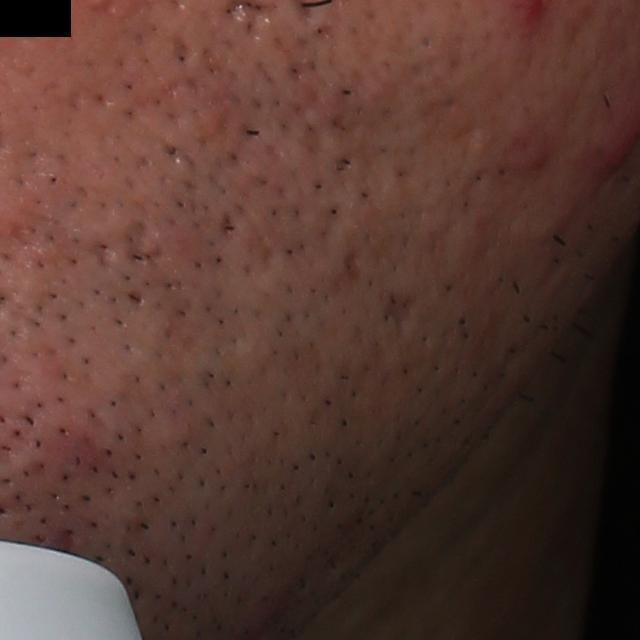atrophic_scar: (120, 210, 168, 278), (383, 285, 414, 341)
papule: (501, 138, 565, 180)
